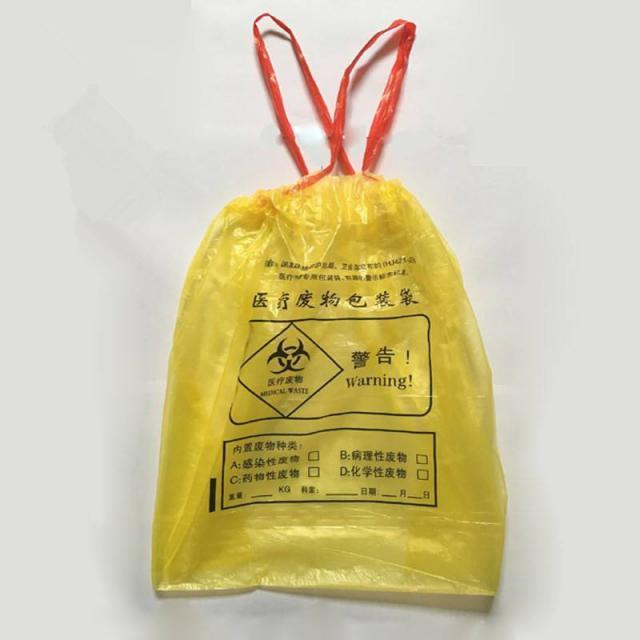waste: (161, 6, 497, 598)
